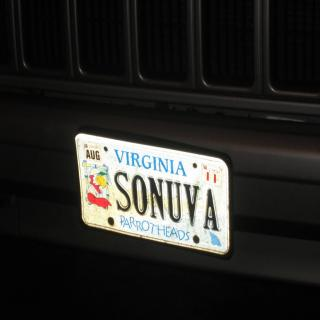license: (75, 131, 231, 257)
